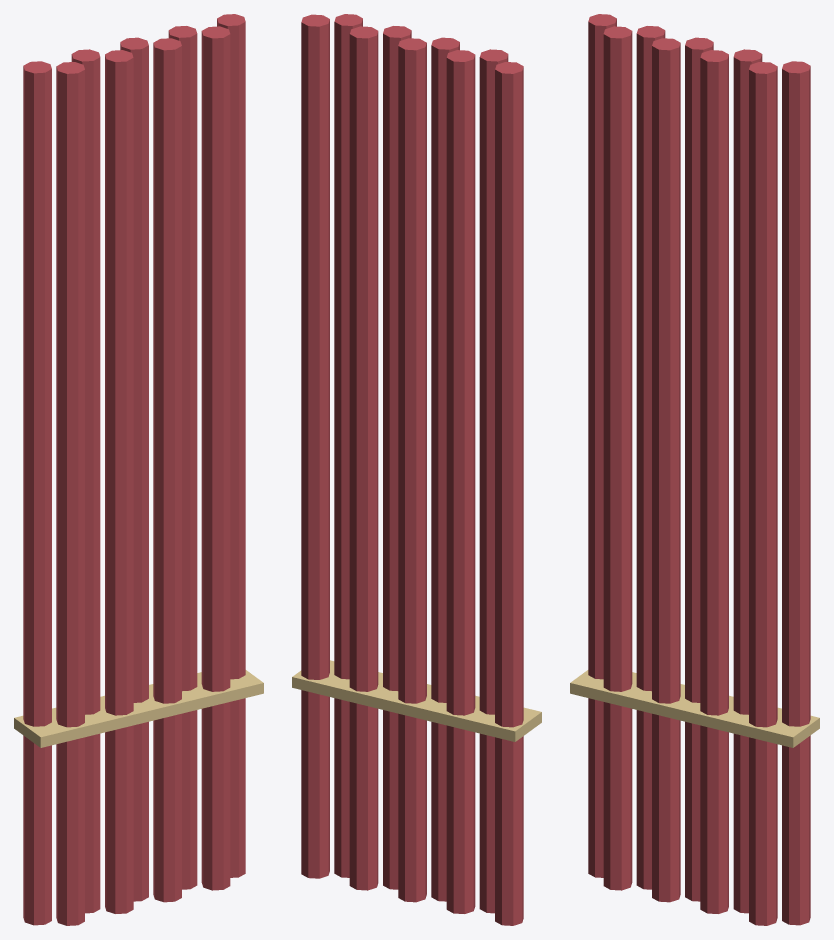
File: curtain_side.glb
3 views of the same model, side by side, from view 1: azimuth 30°, elevation 25°; view 2: azimuth 150°, elevation 25°; view 3: azimuth 330°, elevation 25° (orthographic).
Parts seen in each view (by area): view 1: curtain_side_curtain, curtain_side_gold; view 2: curtain_side_curtain, curtain_side_gold; view 3: curtain_side_curtain, curtain_side_gold.
Boxes of the visible parts, <box> form: curtain_side_curtain: <box>23,14,245,925</box>; curtain_side_gold: <box>14,670,263,747</box>; curtain_side_curtain: <box>301,14,523,925</box>; curtain_side_gold: <box>292,660,541,741</box>; curtain_side_curtain: <box>588,14,810,925</box>; curtain_side_gold: <box>570,670,819,747</box>.
Size of the model in its own units: 1.74 by 6.35 by 0.36.
